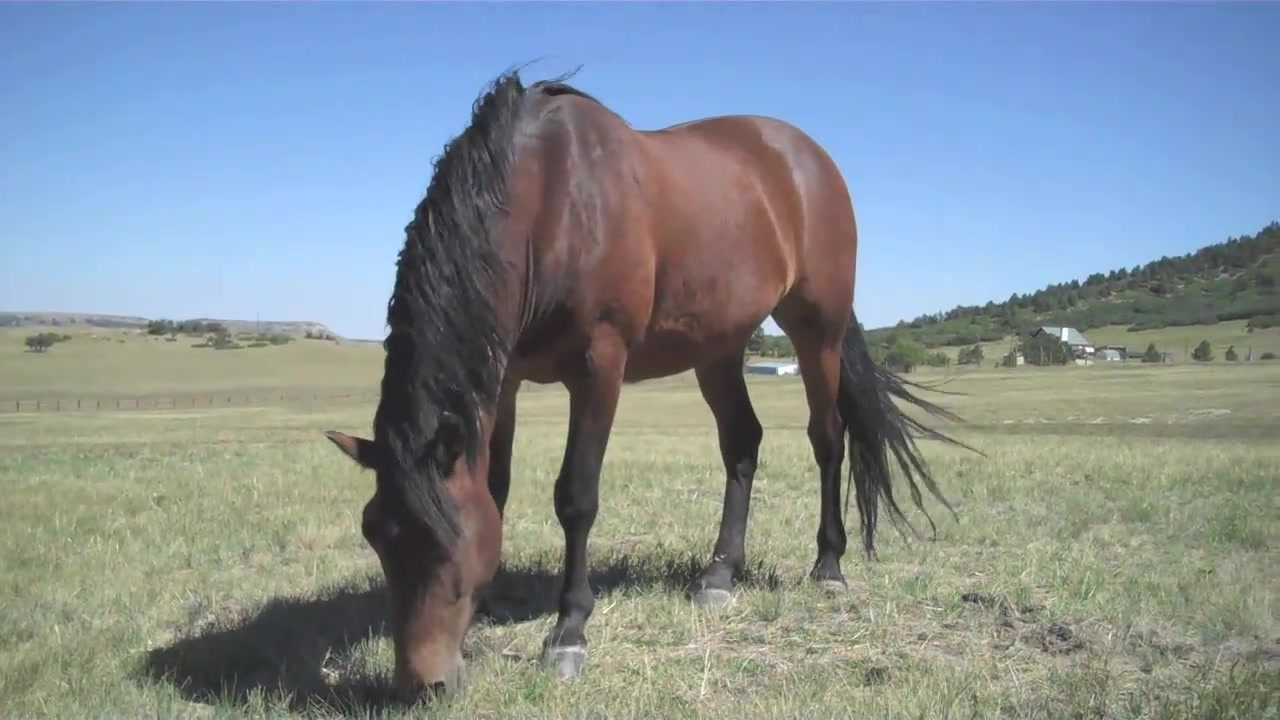horse: (324, 55, 991, 708)
